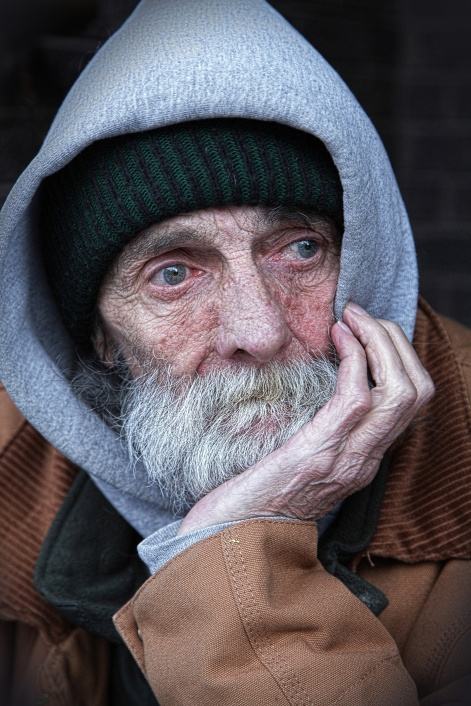Forehead: (108, 190, 330, 247)
